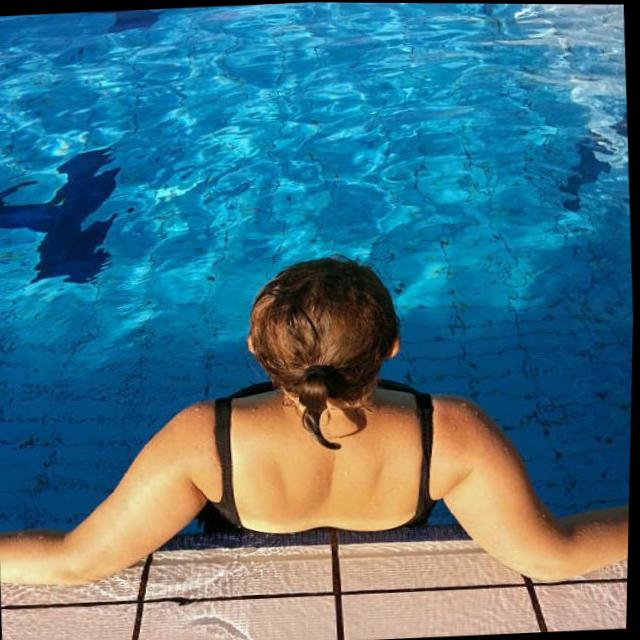no helmet: (243, 254, 415, 405)
